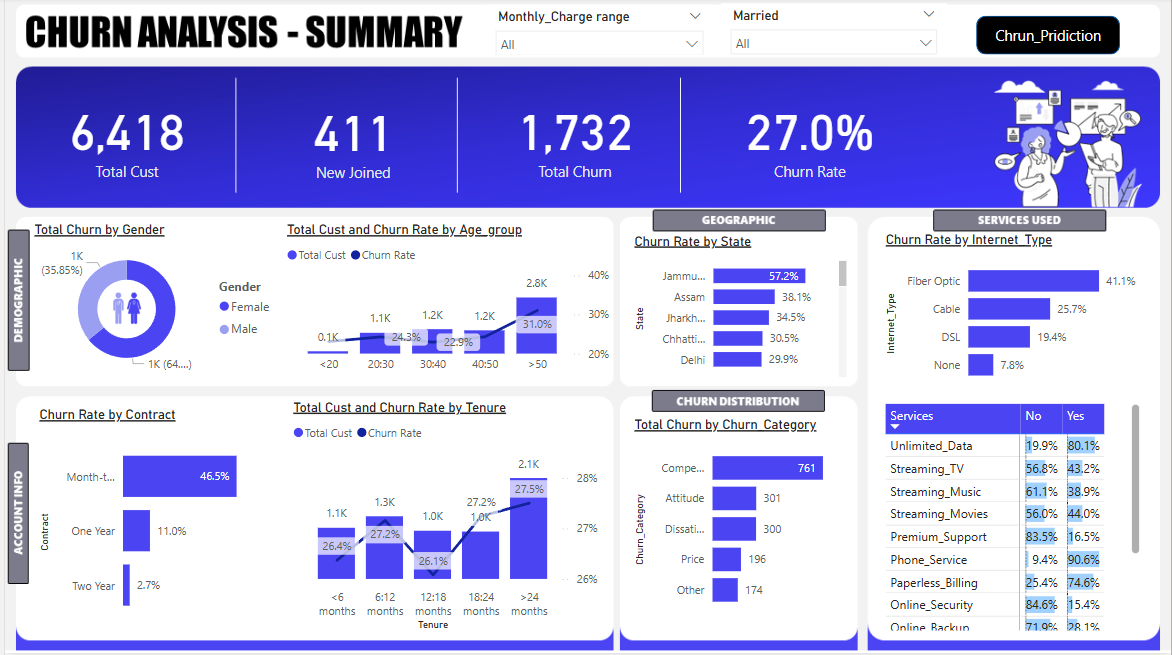

What the dashboard file says about the page in this screenshot:
{"tool":"powerbi","page":{"name":"Summary","canvas":[1280,720],"ordinal":0},"visuals":[{"type":"image","box":[86.6,314.7,95.3,53.4],"z":0},{"type":"card","fields":{"Values":["Tbl_Measures.Total Cust"]},"box":[14.4,79.4,238.2,145.8],"z":1000},{"type":"card","fields":{"Values":["Tbl_Measures.New Joined"]},"box":[267,82.3,229.5,142.9],"z":2000},{"type":"card","fields":{"Values":["Tbl_Measures.Total Churn"]},"box":[486.4,92.4,280,122.7],"z":3000},{"type":"card","fields":{"Values":["Tbl_Measures.Churn Rate"]},"box":[743.3,79.4,280,145.8],"z":4000},{"type":"donutChart","fields":{"Category":["prod_Churn.Gender"],"Y":["Tbl_Measures.Total Churn"]},"box":[27.4,246.8,278.6,174.7],"z":5000},{"type":"lineStackedColumnComboChart","fields":{"Y":["Tbl_Measures.Total Cust"],"Category":["Mapping_age.Age_group"],"Y2":["Tbl_Measures.Churn Rate"]},"box":[304.6,246.8,363.7,174.7],"z":6000},{"type":"clusteredBarChart","fields":{"Category":["prod_Churn.State"],"Y":["Tbl_Measures.Churn Rate"]},"box":[685.6,259.8,242.5,163.1],"z":7000},{"type":"clusteredBarChart","fields":{"Y":["Tbl_Measures.Churn Rate"],"Category":["prod_Churn.Contract"]},"box":[33.2,450.3,265.6,249.7],"z":8000},{"type":"lineStackedColumnComboChart","fields":{"Y2":["Tbl_Measures.Churn Rate"],"Category":["Mapping_Tenure.Custom"],"Y":["Tbl_Measures.Total Cust"]},"box":[311.5,441.9,344.4,258],"z":9000},{"type":"clusteredBarChart","fields":{"Category":["prod_Churn.Churn_Category"],"Y":["Tbl_Measures.Total Churn"]},"box":[685.6,460.4,241,222.3],"z":10000},{"type":"clusteredBarChart","fields":{"Category":["prod_Churn.Internet_Type"],"Y":["Tbl_Measures.Churn Rate"]},"box":[961.3,258.4,288.7,176.1],"z":11000},{"type":"pivotTable","fields":{"Rows":["services_status.Services"],"Columns":["services_status.status"],"Values":["Sum(services_status.Churn_Status)"]},"box":[961.3,441.7,288.7,258.4],"z":12000},{"type":"slicer","fields":{"Values":["prod_Churn.Monthly_Charge"]},"box":[528.3,8.2,248.4,54.9],"z":13000},{"type":"slicer","fields":{"Values":["prod_Churn.Married"]},"box":[786.3,6.9,247,56.3],"z":14000},{"type":"shape","box":[1066.2,20.6,157.8,42.5],"z":15000}]}

Visuals, with their boxes in screenshot pixels (x1, y1, x2, y2), scaled from the page's 1280x720 canvas onto the 1172x655 screenshot:
image: (79,286,167,335)
card - Tbl_Measures.Total Cust: (13,72,231,205)
card - Tbl_Measures.New Joined: (244,75,455,205)
card - Tbl_Measures.Total Churn: (445,84,702,196)
card - Tbl_Measures.Churn Rate: (681,72,937,205)
donutChart - prod_Churn.Gender x Tbl_Measures.Total Churn: (25,225,280,383)
lineStackedColumnComboChart - Tbl_Measures.Total Cust x Mapping_age.Age_group: (279,225,612,383)
clusteredBarChart - prod_Churn.State x Tbl_Measures.Churn Rate: (628,236,850,385)
clusteredBarChart - Tbl_Measures.Churn Rate x prod_Churn.Contract: (30,410,274,637)
lineStackedColumnComboChart - Tbl_Measures.Churn Rate x Mapping_Tenure.Custom: (285,402,601,637)
clusteredBarChart - prod_Churn.Churn_Category x Tbl_Measures.Total Churn: (628,419,848,621)
clusteredBarChart - prod_Churn.Internet_Type x Tbl_Measures.Churn Rate: (880,235,1145,395)
pivotTable - services_status.Services x services_status.status: (880,402,1145,637)
slicer - prod_Churn.Monthly_Charge: (484,7,711,57)
slicer - prod_Churn.Married: (720,6,946,57)
shape: (976,19,1121,57)
